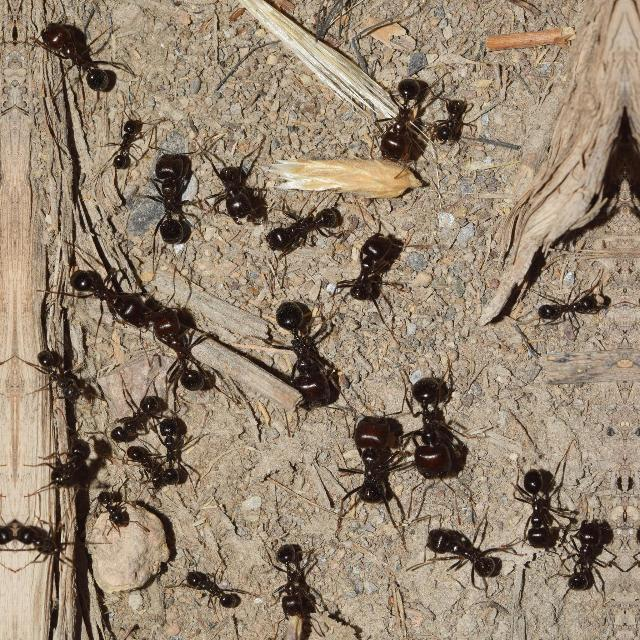Messor: (31, 15, 142, 100), (270, 288, 350, 400), (196, 140, 284, 240), (142, 300, 218, 396), (402, 372, 468, 481), (329, 224, 413, 306), (146, 142, 210, 246), (69, 253, 151, 334), (348, 412, 410, 512), (432, 498, 501, 586), (266, 201, 354, 265), (560, 510, 624, 596), (272, 543, 331, 627), (382, 62, 420, 192), (100, 382, 164, 446), (151, 408, 199, 489), (512, 462, 556, 548), (530, 280, 596, 336), (112, 97, 146, 203), (430, 79, 474, 155), (14, 520, 72, 570), (188, 566, 242, 618), (44, 432, 92, 484), (126, 434, 166, 496), (42, 348, 84, 399), (93, 490, 143, 526), (626, 510, 640, 595), (0, 520, 15, 569)
